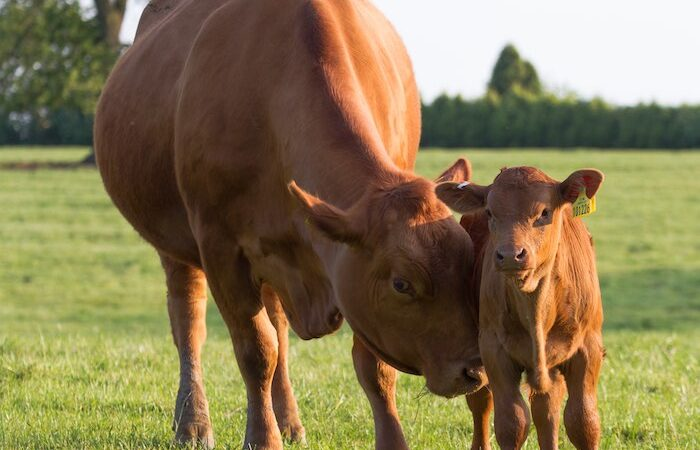bovino: (66, 0, 488, 450), (459, 165, 603, 450)
